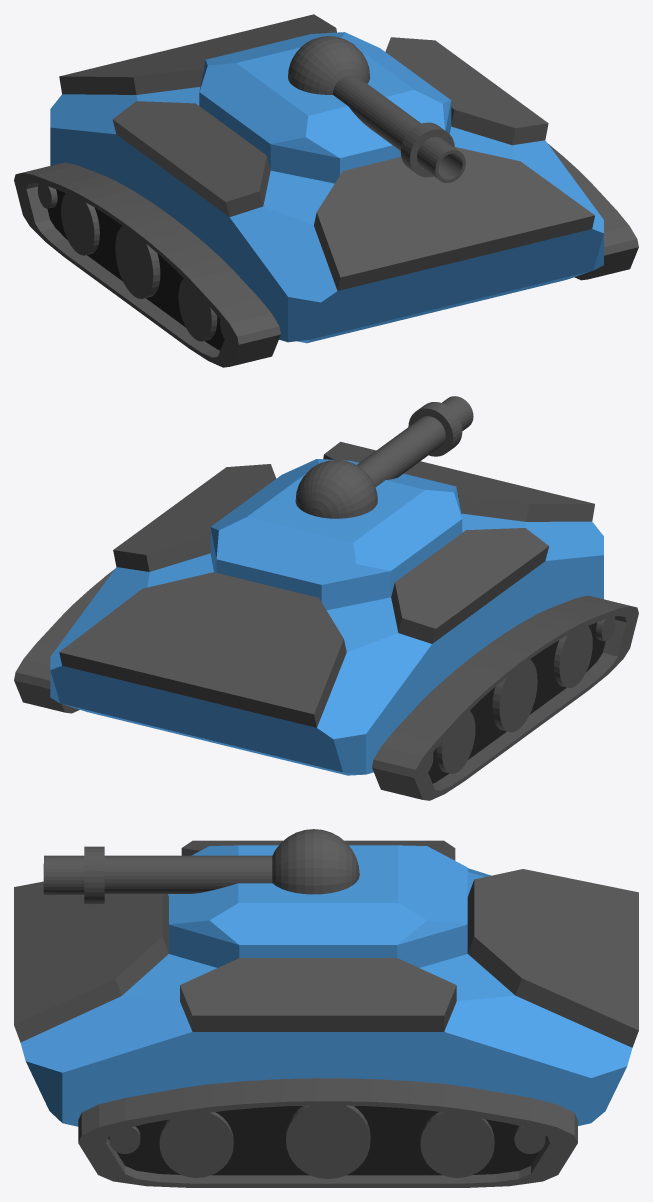
The model's file is tank.glb.
The picture shows the model from 3 angles, top to bottom: view 1: azimuth 30°, elevation 25°; view 2: azimuth 150°, elevation 25°; view 3: azimuth 270°, elevation 25°; orthographic projection. The views are drawn at different scales.
Parts seen in each view (by area): view 1: Hull, Armor3, TrackL, Armor1, Armor4, Armor2, Barrel, TrackPlayerColor2.001, TrackR, Barrel.001, Gear3.001, Gear4.001 (+1 smaller); view 2: Hull, Armor4, TrackL, Armor1, Armor2, Barrel, Armor3, TrackR, TrackPlayerColor2.001, Gear3.001, Gear2.001, Barrel.001 (+1 smaller); view 3: Hull, TrackR, Armor4, Armor2, Armor3, TrackPlayerColor1, Barrel, Gear3, Gear4, Gear2, Barrel.001, Armor1 (+2 smaller).
Part boxes in pixels (box(x1,y1,x2,y2)): Hull: box(50, 32, 603, 343); Armor3: box(314, 147, 594, 290); TrackL: box(14, 162, 280, 367); Armor1: box(112, 101, 270, 217); Armor4: box(59, 14, 336, 94); Armor2: box(385, 37, 548, 145); Barrel: box(288, 36, 420, 150); TrackPlayerColor2.001: box(47, 189, 224, 350); TrackR: box(548, 144, 638, 280); Barrel.001: box(400, 122, 465, 182); Gear3.001: box(115, 226, 160, 298); Gear4.001: box(61, 193, 99, 255); Hull: box(50, 459, 603, 775); Armor4: box(59, 572, 346, 727); TrackL: box(372, 595, 638, 800); Armor1: box(391, 528, 548, 643); Armor2: box(113, 464, 276, 571); Barrel: box(295, 416, 445, 518); Armor3: box(323, 441, 594, 521); TrackR: box(14, 569, 114, 713); TrackPlayerColor2.001: box(428, 622, 605, 783); Gear3.001: box(492, 659, 537, 732); Gear2.001: box(554, 626, 592, 687); Barrel.001: box(408, 396, 473, 456); Hull: box(20, 845, 632, 1126); TrackR: box(78, 1078, 577, 1187); Armor4: box(467, 869, 638, 1047); Armor2: box(180, 958, 456, 1031); Armor3: box(14, 881, 168, 1042); TrackPlayerColor1: box(108, 1106, 547, 1175); Barrel: box(104, 829, 359, 894); Gear3: box(286, 1105, 370, 1178); Gear4: box(420, 1112, 494, 1177); Gear2: box(159, 1112, 233, 1177); Barrel.001: box(43, 846, 104, 904); Armor1: box(181, 840, 455, 860).
Bounding box in the file's own units: 2.53 × 1.33 × 3.09.
